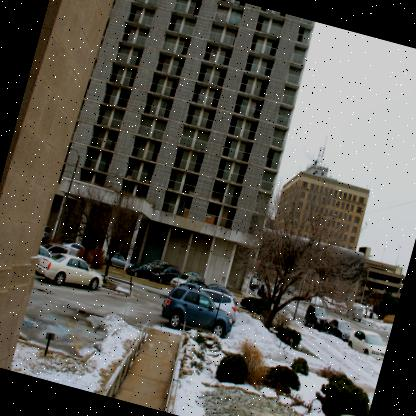Car: (27, 224, 246, 344), (344, 325, 389, 363), (321, 314, 354, 342), (302, 303, 331, 333), (344, 304, 364, 322), (333, 302, 348, 314), (249, 276, 260, 290), (258, 284, 269, 298), (300, 290, 312, 302), (364, 303, 374, 312), (284, 286, 294, 294)
